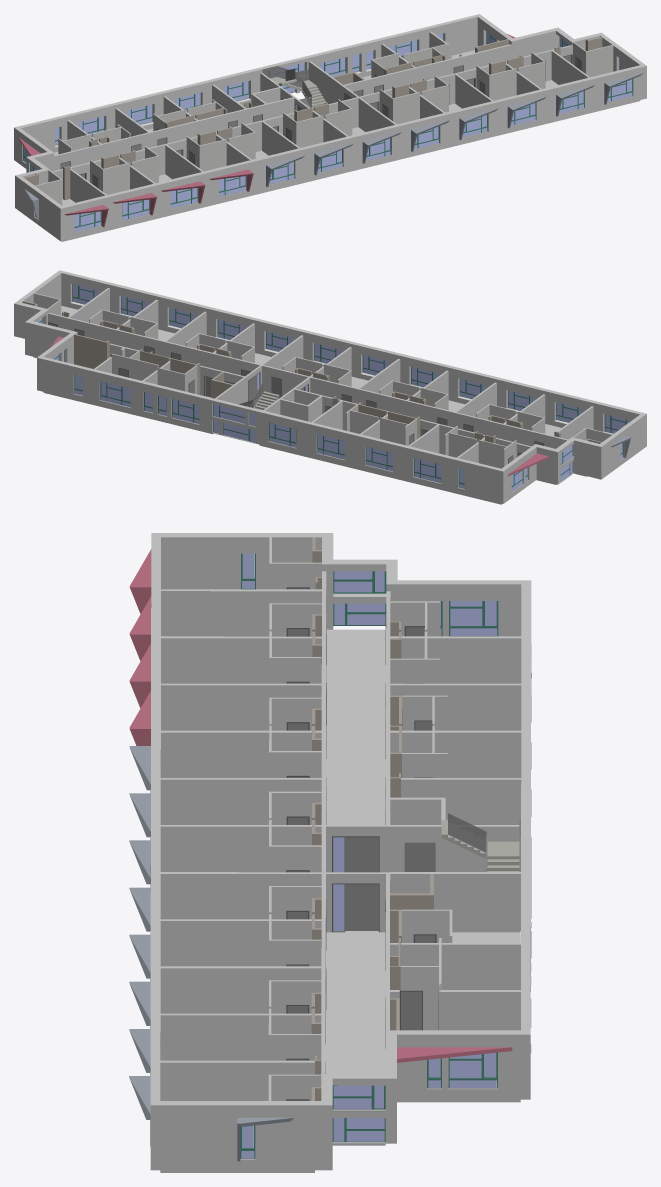
The model's file is floor1_o2.glb.
3 renders of one model, top to bottom at view 1: azimuth 30°, elevation 25°; view 2: azimuth 150°, elevation 25°; view 3: azimuth 270°, elevation 25°, orthographic. The views are drawn at different scales.
Parts seen in each view (by area): view 1: IfcWallStandardCase/ARVS-01.012, IfcWallStandardCase/ARSS-04.024, IfcWindow/ARA.054, IfcWallStandardCase/ARSS-03.021, IfcWall/ARSEIN - 018.043, IfcDoor/ARSU.040, IfcWall/ARSEIN - 018.010, IfcBuildingElementProxy/Sisekäsipuu.001, IfcStairFlight/ARSS - 035.001; view 2: IfcWallStandardCase/ARVS-01.012, IfcWindow/ARA.054, IfcWallStandardCase/ARSS-04.024, IfcWallStandardCase/ARSS-03.021, IfcDoor/ARSU.040; view 3: IfcWallStandardCase/ARVS-01.012, IfcWallStandardCase/ARSS-04.024, IfcWindow/ARA.054, IfcDoor/ARSU.040, IfcWallStandardCase/ARSS-03.021, IfcWall/ARSEIN - 018.043, IfcWall/ARSEIN - 018.010, IfcStairFlight/ARSS - 035.001, IfcBuildingElementProxy/Sisekäsipuu.001.
Part boxes in pixels (x1,y1,x2,y2): IfcWallStandardCase/ARVS-01.012: (14,14,646,241); IfcWallStandardCase/ARSS-04.024: (35,42,613,205); IfcWindow/ARA.054: (22,31,633,232); IfcWallStandardCase/ARSS-03.021: (24,37,602,199); IfcWall/ARSEIN - 018.043: (25,73,643,220); IfcDoor/ARSU.040: (60,54,581,188); IfcWall/ARSEIN - 018.010: (18,34,515,226); IfcBuildingElementProxy/Sisekäsipuu.001: (262,66,312,107); IfcStairFlight/ARSS - 035.001: (270,77,326,107); IfcWallStandardCase/ARVS-01.012: (14,270,646,504); IfcWindow/ARA.054: (37,284,630,492); IfcWallStandardCase/ARSS-04.024: (33,293,612,468); IfcWallStandardCase/ARSS-03.021: (22,301,601,443); IfcDoor/ARSU.040: (48,322,544,463); IfcWallStandardCase/ARVS-01.012: (150,533,531,1172); IfcWallStandardCase/ARSS-04.024: (268,537,452,1100); IfcWindow/ARA.054: (150,553,531,1160); IfcDoor/ARSU.040: (286,587,438,1100); IfcWallStandardCase/ARSS-03.021: (311,537,433,1100); IfcWall/ARSEIN - 018.043: (129,746,294,1161); IfcWall/ARSEIN - 018.010: (129,549,512,1062); IfcStairFlight/ARSS - 035.001: (441,820,519,871); IfcBuildingElementProxy/Sisekäsipuu.001: (448,813,520,871).
Size of the model in its own units: 64.42 by 4.8 by 18.77.
